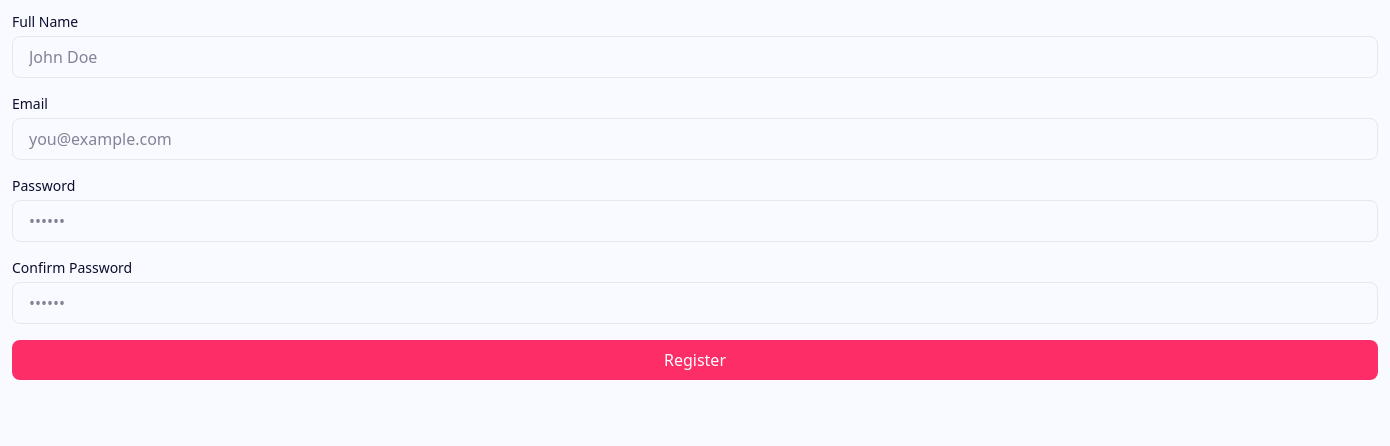
Scenario: RegisterForm › Form Validation - Email › should display error for empty email
Step 1. Type "Jane Doe" into the field with placeholder "John Doe" → (695, 57), box top-left (12, 36), bottom-right (1378, 78)
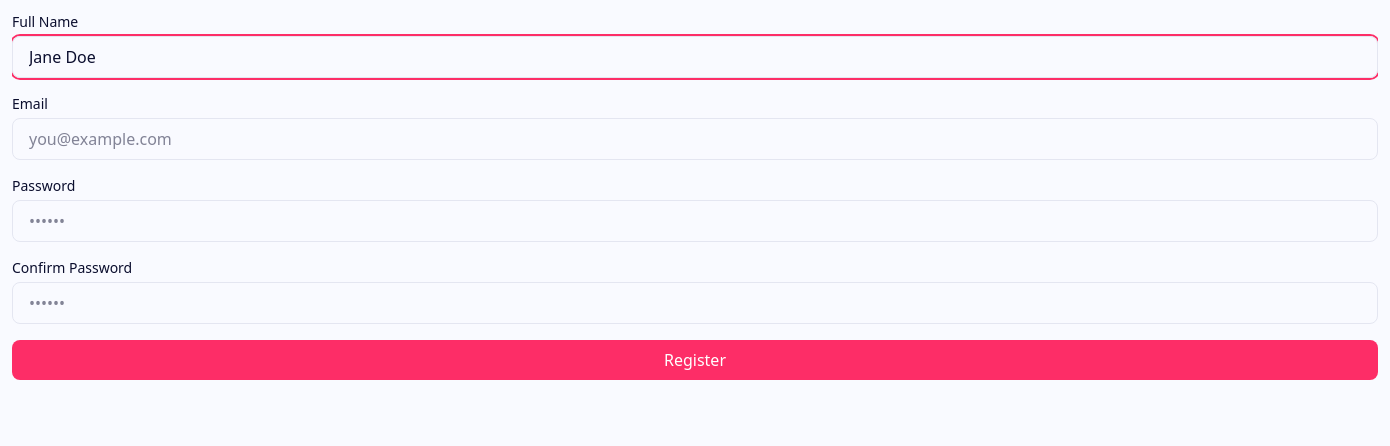
Step 2. Click the button "Register" → (695, 360), box top-left (12, 340), bottom-right (1378, 380)
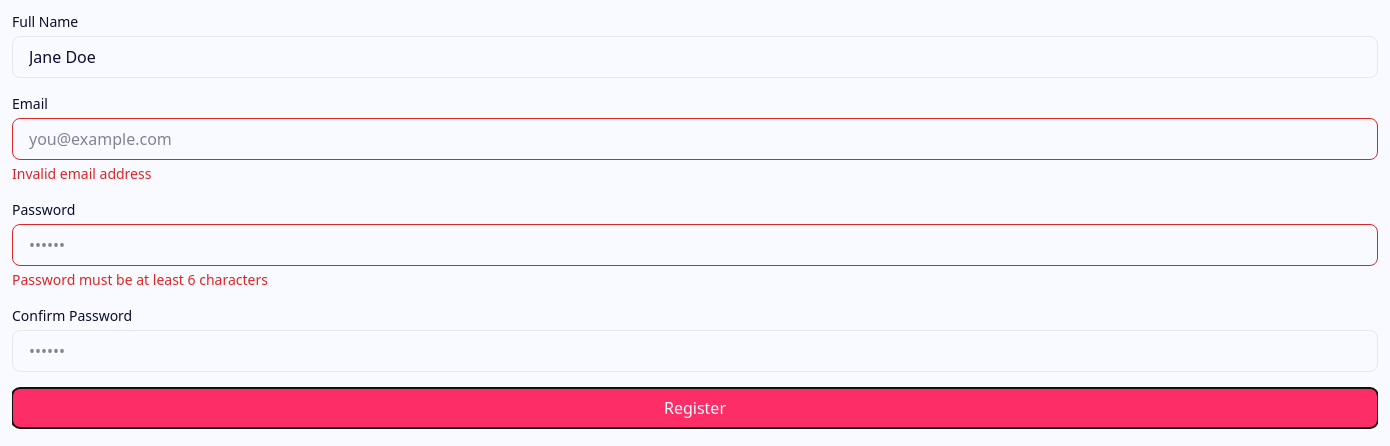
Check: the text "Invalid email address" is shown, box top-left (12, 164), bottom-right (151, 183)
